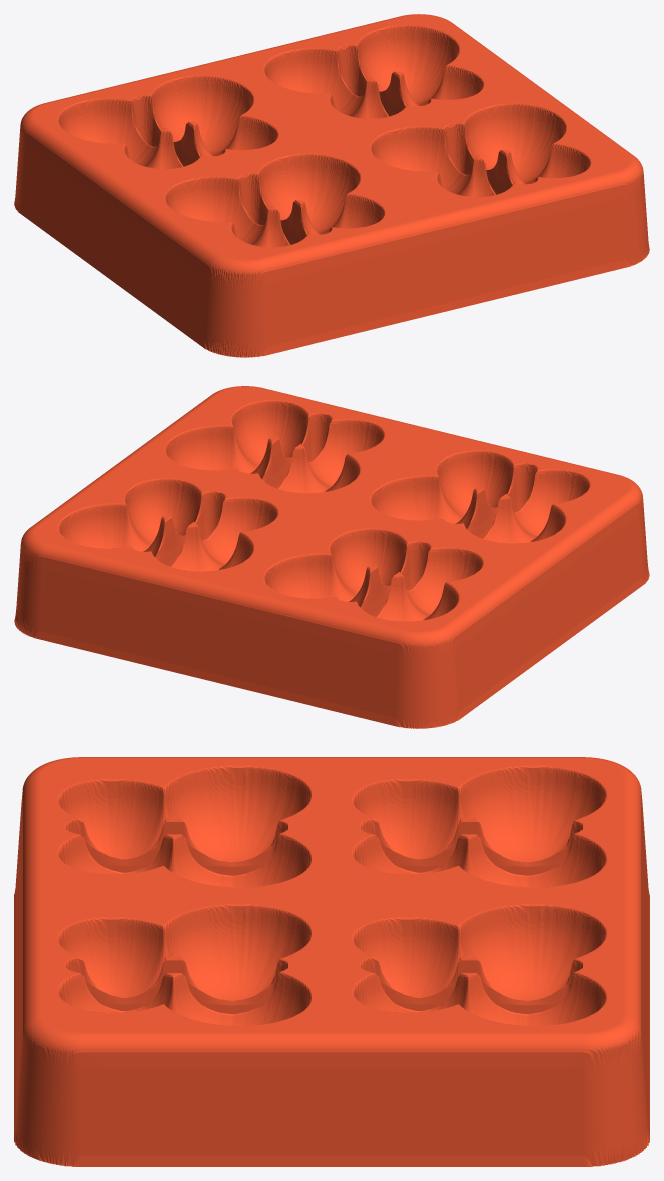
The model's file is mold.glb.
3 renders of one model, top to bottom at view 1: azimuth 30°, elevation 25°; view 2: azimuth 150°, elevation 25°; view 3: azimuth 270°, elevation 25°, orthographic. The views are drawn at different scales.
Visible parts, largest first — view 1: geometry_0; view 2: geometry_0; view 3: geometry_0.
Part boxes in pixels (x1=…): geometry_0: x1=14, y1=14, x2=649, y2=357; geometry_0: x1=14, y1=386, x2=649, y2=728; geometry_0: x1=14, y1=757, x2=649, y2=1166.
Size of the model in its own units: 0.0942 by 0.0182 by 0.0854.
